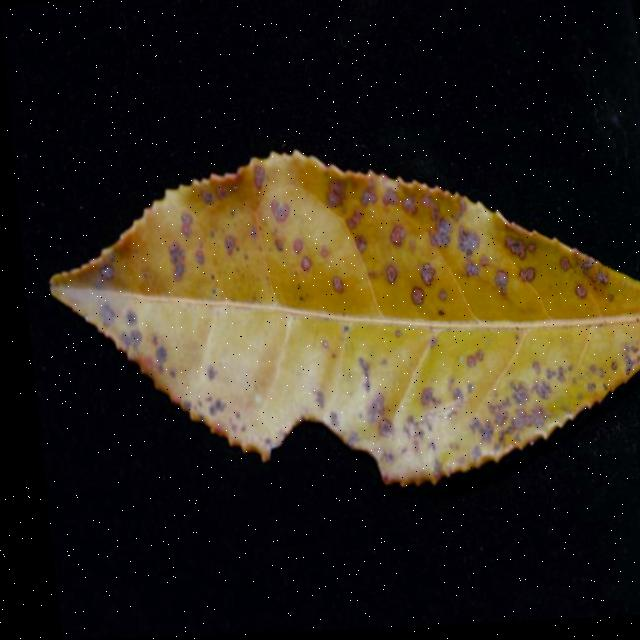Tea red rust: (31, 149, 640, 460)
